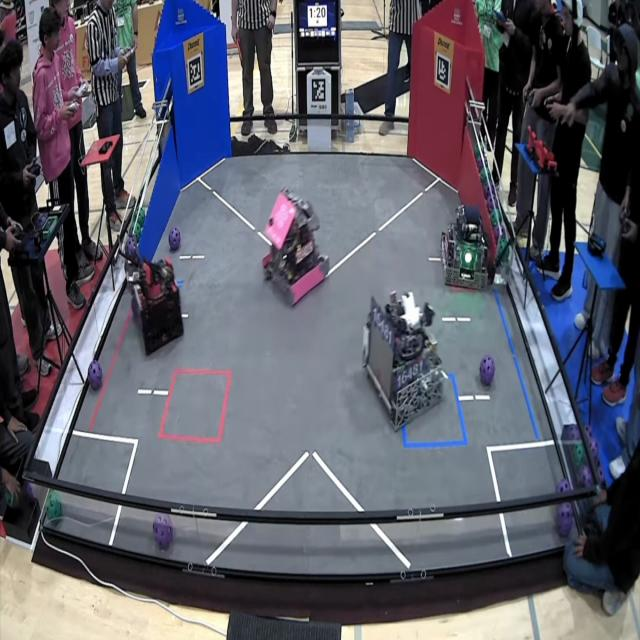artifact_green: (45, 491, 62, 521), (562, 424, 580, 443), (572, 443, 585, 467), (125, 235, 137, 260), (588, 436, 599, 462), (5, 489, 18, 509), (498, 237, 508, 261), (131, 296, 140, 322), (596, 461, 605, 487), (26, 483, 37, 504), (484, 184, 493, 208), (134, 221, 143, 243), (490, 208, 500, 227), (481, 167, 491, 185), (134, 214, 145, 230), (132, 207, 144, 221), (475, 138, 484, 154), (479, 167, 485, 191), (134, 225, 141, 244), (498, 236, 508, 249), (131, 227, 139, 243), (131, 208, 139, 224), (138, 207, 146, 223), (135, 218, 144, 231), (493, 226, 500, 242), (480, 170, 486, 188), (476, 157, 483, 172), (139, 208, 146, 223), (483, 153, 490, 167), (475, 153, 481, 169), (501, 223, 507, 239), (474, 144, 480, 159), (138, 221, 144, 233), (142, 209, 146, 223), (131, 230, 136, 241), (136, 231, 141, 242), (473, 141, 478, 152)
artifact_purple: (153, 514, 173, 550), (556, 504, 573, 537), (480, 355, 495, 386), (88, 360, 102, 391), (572, 441, 586, 467), (578, 465, 593, 488), (564, 424, 580, 443), (588, 436, 600, 460), (125, 236, 137, 260), (169, 227, 180, 251), (131, 296, 140, 321), (596, 461, 605, 486), (26, 483, 36, 504), (557, 479, 570, 493), (490, 193, 499, 210), (484, 184, 492, 201), (585, 424, 594, 438), (483, 154, 491, 168), (500, 224, 508, 238), (494, 226, 500, 241), (477, 158, 483, 171)
